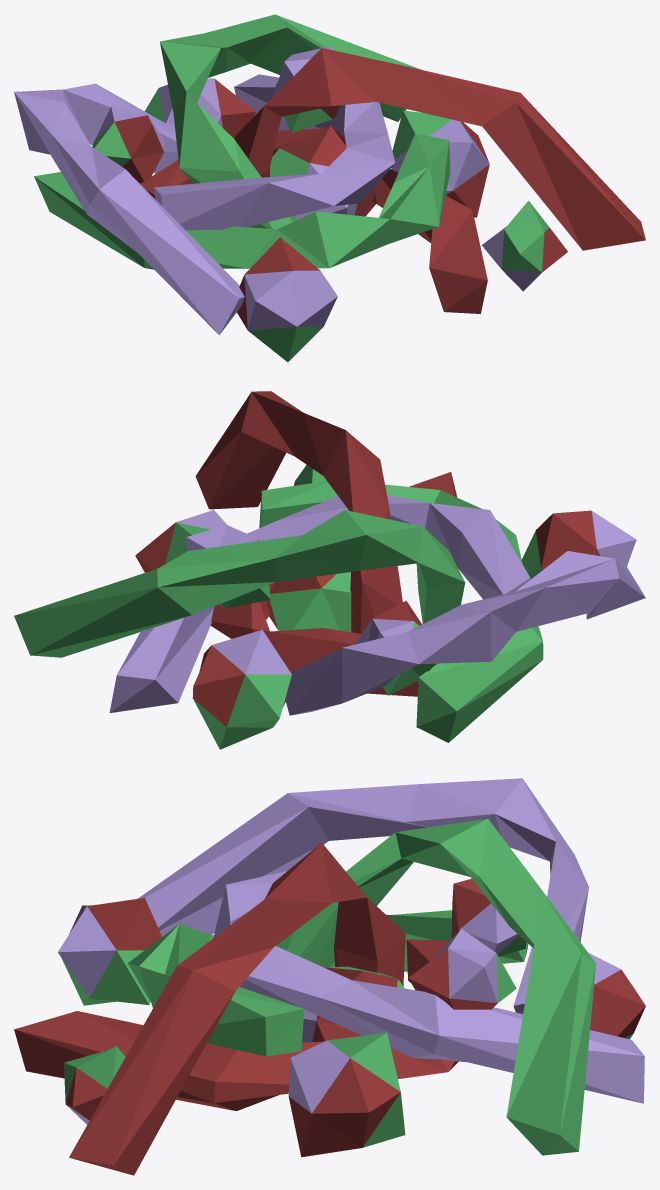
File: FBX_garbage.FBX
3 views of the same model, one above another, from view 1: azimuth 30°, elevation 25°; view 2: azimuth 150°, elevation 25°; view 3: azimuth 270°, elevation 25° (orthographic). The views are drawn at different scales.
Visible parts, largest first — view 1: garbage; view 2: garbage; view 3: garbage.
Boxes of the visible parts, x1,y1,x2,y2 form: garbage: [14, 14, 645, 362]; garbage: [14, 391, 645, 749]; garbage: [14, 778, 645, 1175].
Size of the model in its own units: 157 by 68.63 by 156.
